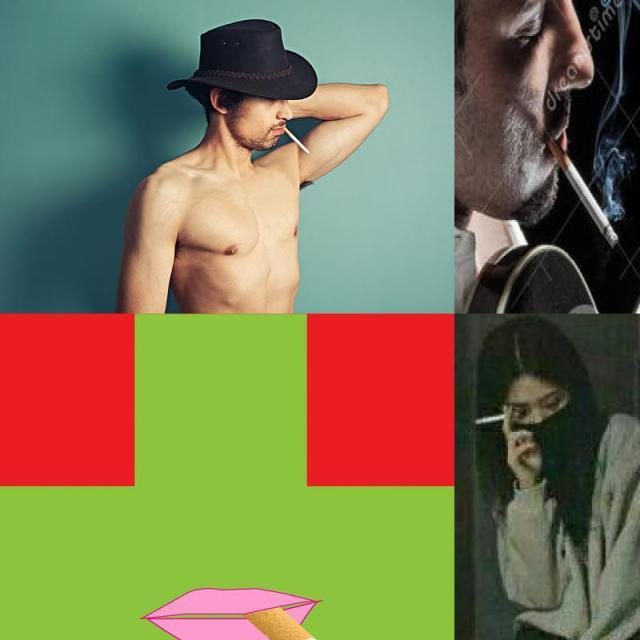smoke: (546, 135, 620, 250), (282, 125, 312, 156), (474, 410, 520, 425)
